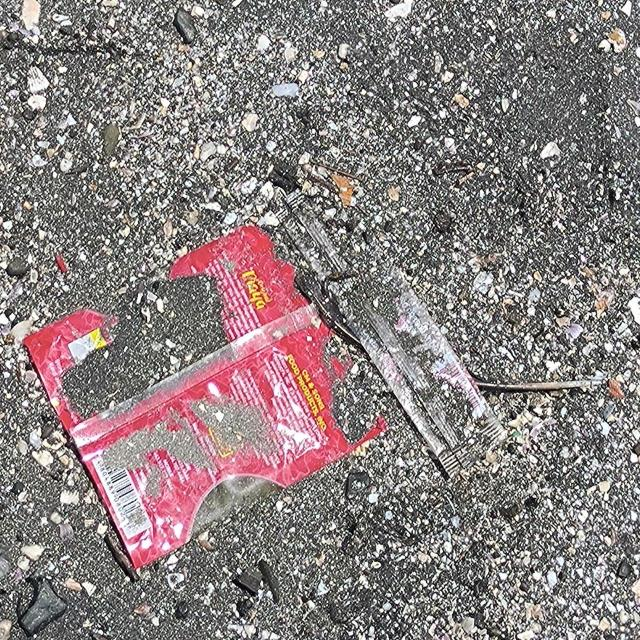plastic_waste: (23, 224, 391, 572), (272, 180, 511, 481)
